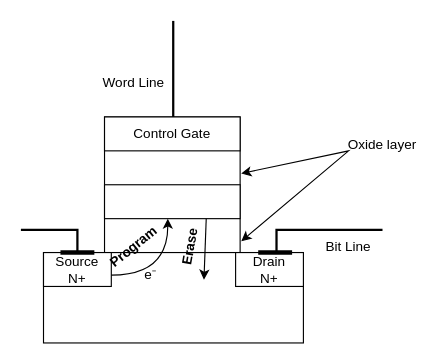
Some shapes in this 446 by 363 pixel diagram are drawn without their labels. Each missing label, with the box of its shape:
Floating Gate: (103, 184, 240, 219)
P-substrate: (42, 251, 303, 343)
